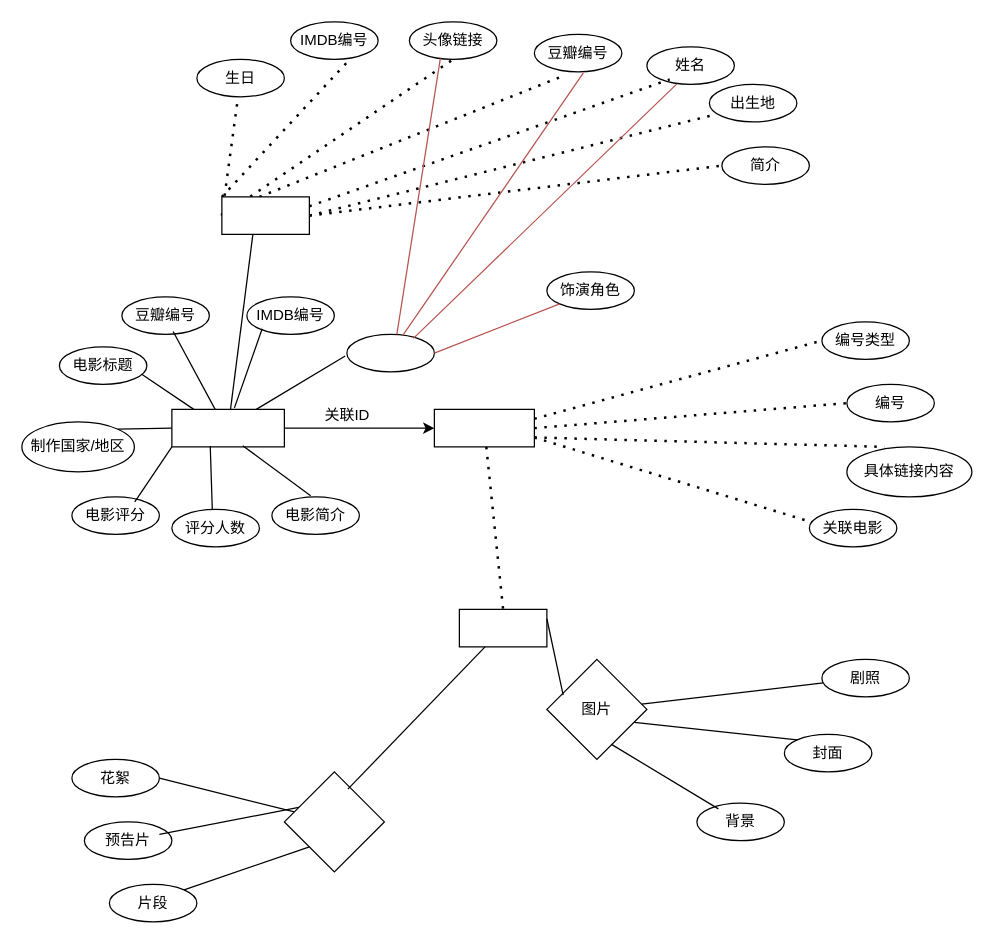
Image size: 994x944. Some labels were removed from this diagram. Here are the shapes that lost their labels. From the top down, the centre of each, then its label:
At pixel 265 215: "人物表".
At pixel 390 352: "演职团队".
At pixel 227 427: "电影主信息表".
At pixel 483 427: "相关链接表".
At pixel 502 627: "链接类型".
At pixel 333 821: "视频".
